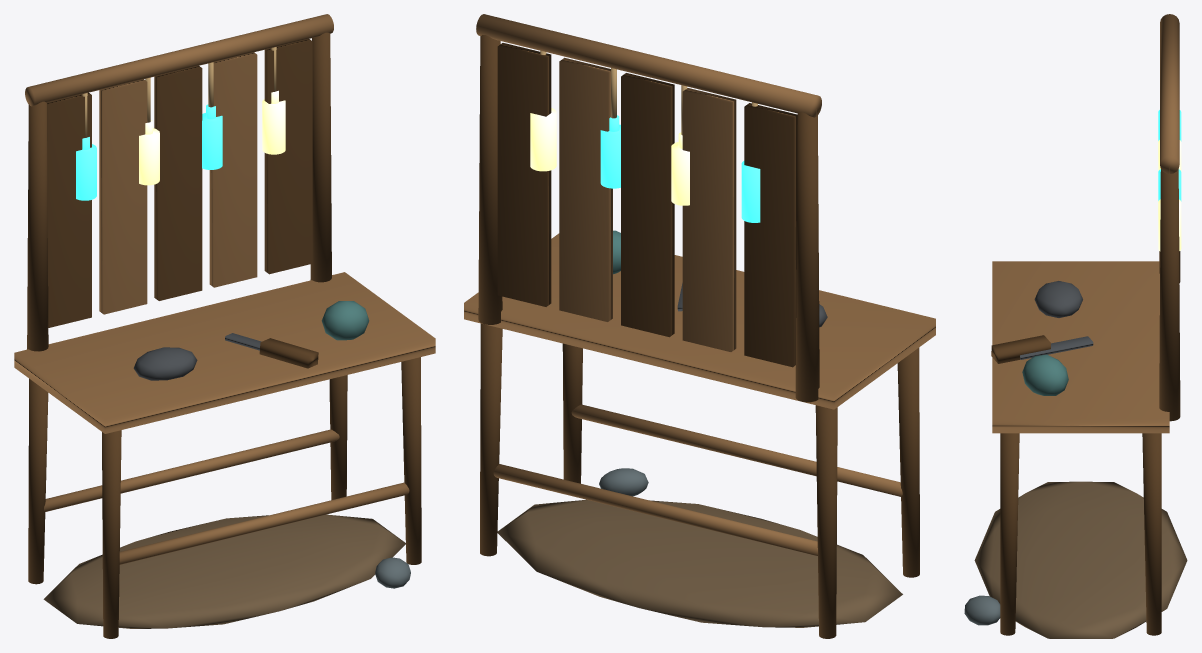
File: 3D模型 props_stall.glb
The picture shows the model from 3 angles, left to right: view 1: azimuth 30°, elevation 25°; view 2: azimuth 150°, elevation 25°; view 3: azimuth 270°, elevation 25°; orthographic projection. The views are drawn at different scales.
Parts seen in each view (by area): view 1: part_tabletop, part_base, part_slat_2, part_slat_1, part_slat_3, part_slat_4, part_slat_0, part_crossbar, part_upright_0, part_upright_1, part_stretcher_0, part_stretcher_1 (+12 smaller); view 2: part_base, part_tabletop, part_slat_2, part_slat_1, part_slat_3, part_slat_4, part_slat_0, part_crossbar, part_upright_0, part_upright_1, part_stretcher_1, part_stretcher_0 (+9 smaller); view 3: part_tabletop, part_base, part_upright_1, part_leg_1, part_leg_3, part_crossbar, part_cloth, part_bowl, part_handle, part_pebble_a, part_blade.
Part boxes in pixels (x1=…): part_tabletop: x1=14, y1=272, x2=435, y2=433; part_base: x1=43, y1=514, x2=405, y2=628; part_slat_2: x1=154, y1=66, x2=202, y2=300; part_slat_1: x1=99, y1=79, x2=147, y2=314; part_slat_3: x1=209, y1=52, x2=257, y2=287; part_slat_4: x1=264, y1=39, x2=312, y2=274; part_slat_0: x1=47, y1=92, x2=91, y2=327; part_crossbar: x1=25, y1=14, x2=333, y2=106; part_upright_0: x1=27, y1=101, x2=48, y2=351; part_upright_1: x1=310, y1=32, x2=331, y2=282; part_stretcher_0: x1=119, y1=482, x2=409, y2=564; part_stretcher_1: x1=44, y1=429, x2=339, y2=511; part_base: x1=497, y1=499, x2=902, y2=627; part_tabletop: x1=464, y1=233, x2=935, y2=409; part_slat_2: x1=621, y1=73, x2=674, y2=337; part_slat_1: x1=682, y1=88, x2=736, y2=351; part_slat_3: x1=559, y1=57, x2=612, y2=321; part_slat_4: x1=497, y1=43, x2=551, y2=306; part_slat_0: x1=744, y1=103, x2=797, y2=367; part_crossbar: x1=476, y1=14, x2=821, y2=117; part_upright_0: x1=795, y1=109, x2=819, y2=402; part_upright_1: x1=478, y1=35, x2=502, y2=324; part_stretcher_1: x1=493, y1=464, x2=817, y2=555; part_stretcher_0: x1=571, y1=404, x2=902, y2=496; part_tabletop: x1=992, y1=261, x2=1169, y2=433; part_base: x1=974, y1=481, x2=1187, y2=638; part_upright_1: x1=1159, y1=167, x2=1180, y2=421; part_leg_1: x1=1000, y1=433, x2=1019, y2=635; part_leg_3: x1=1142, y1=433, x2=1161, y2=635; part_crossbar: x1=1160, y1=14, x2=1179, y2=173; part_cloth: x1=1022, y1=354, x2=1068, y2=395; part_bowl: x1=1034, y1=281, x2=1082, y2=317; part_handle: x1=991, y1=335, x2=1050, y2=363; part_pebble_a: x1=964, y1=595, x2=1000, y2=625; part_blade: x1=1020, y1=336, x2=1093, y2=359.
Bounding box in the file's own units: 0.84 × 1.22 × 0.5028.
